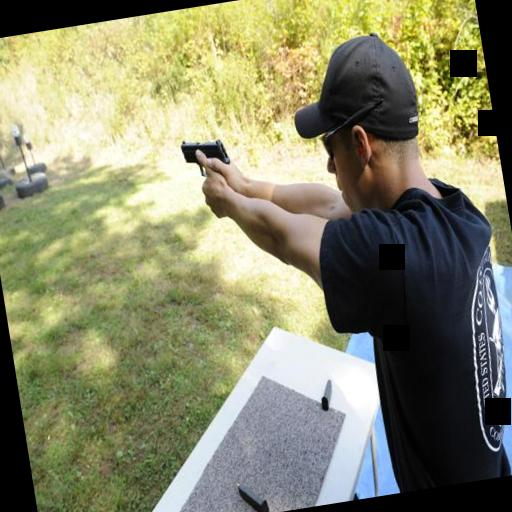Handgun: (175, 126, 230, 190)
